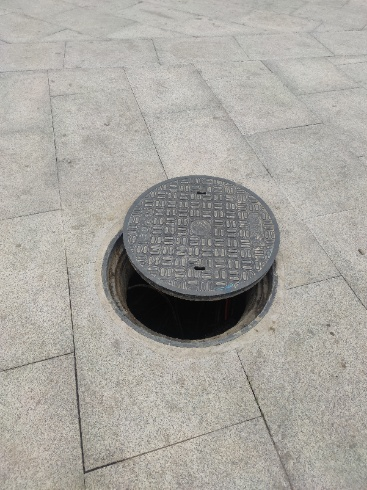uncovered: (101, 174, 281, 349)
